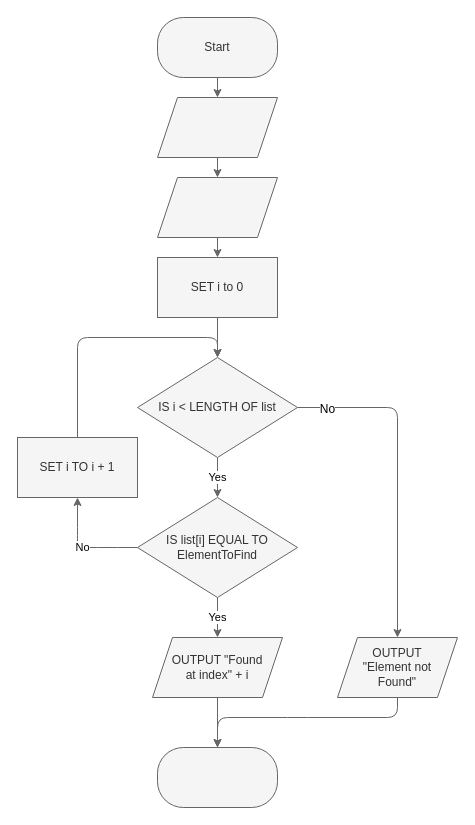
Image size: 475x825. Some labels were removed from this diagram. Each missing label, with the centre of its shape:
End: point (217, 777)
INPUT Element ToFind: point (217, 127)
INPUT list: point (217, 207)
